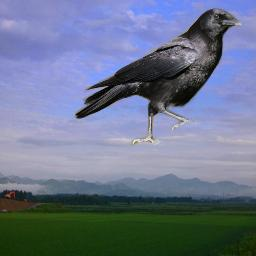Crow: (75, 7, 247, 147)
